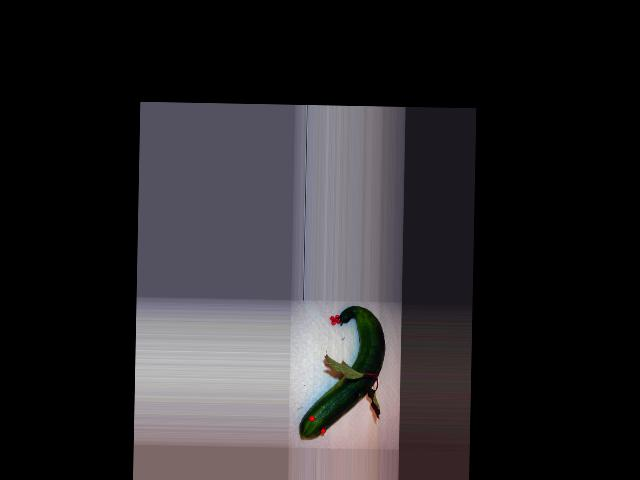cucumber: (299, 304, 385, 439)
